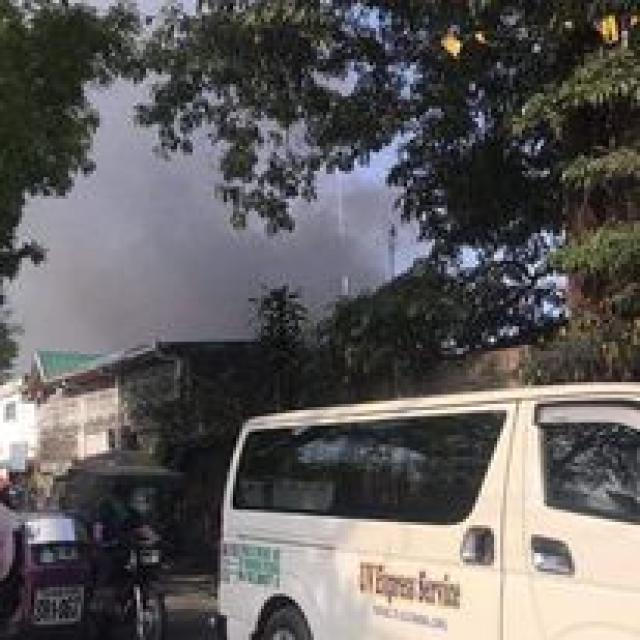Smoke: (39, 96, 388, 370)
